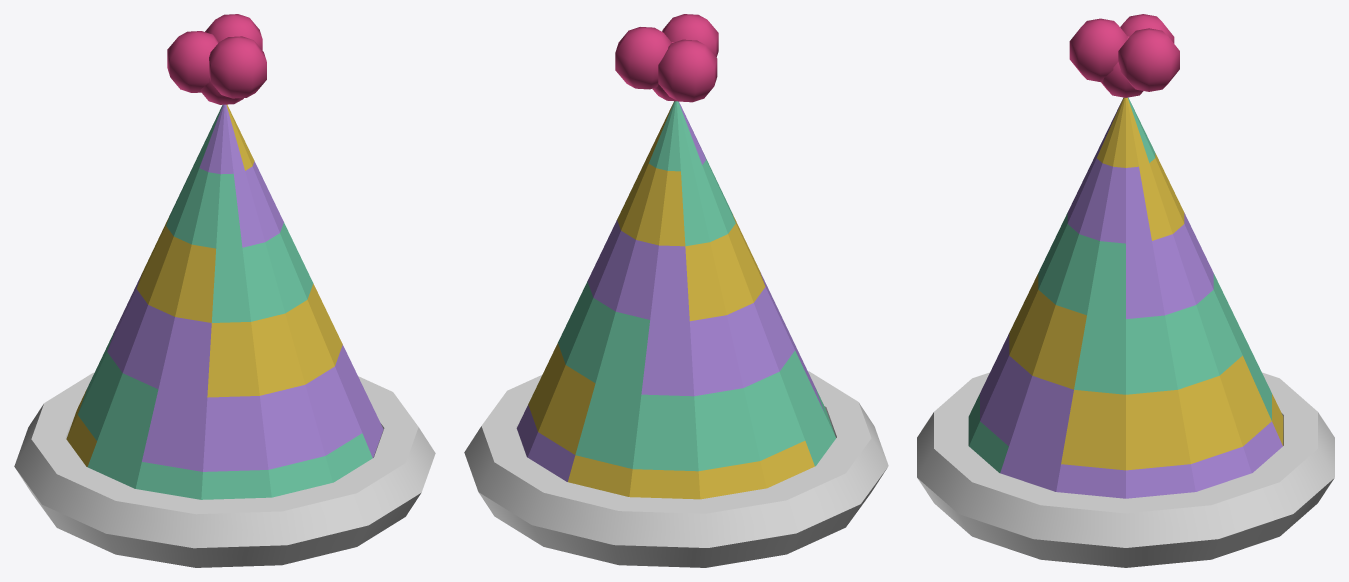
Rendered from party_hat.glb.
3 views of the same model, side by side, from view 1: azimuth 30°, elevation 25°; view 2: azimuth 150°, elevation 25°; view 3: azimuth 270°, elevation 25° (orthographic).
Parts seen in each view (by area): view 1: party_hat; view 2: party_hat; view 3: party_hat.
Part boxes in pixels (x1,y1,x2,y2): party_hat: [14, 14, 435, 567]; party_hat: [464, 14, 888, 567]; party_hat: [917, 14, 1334, 567].
Size of the model in its own units: 0.37 by 0.442 by 0.3607.
